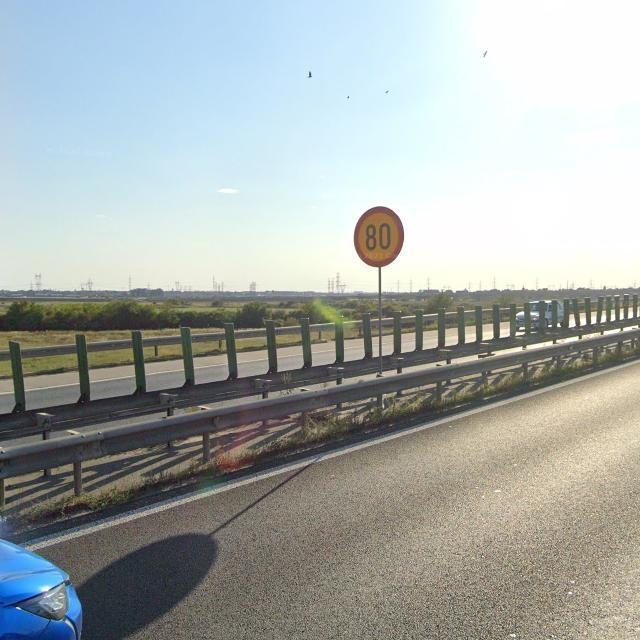forb_speed_over_80: (353, 205, 405, 266)
